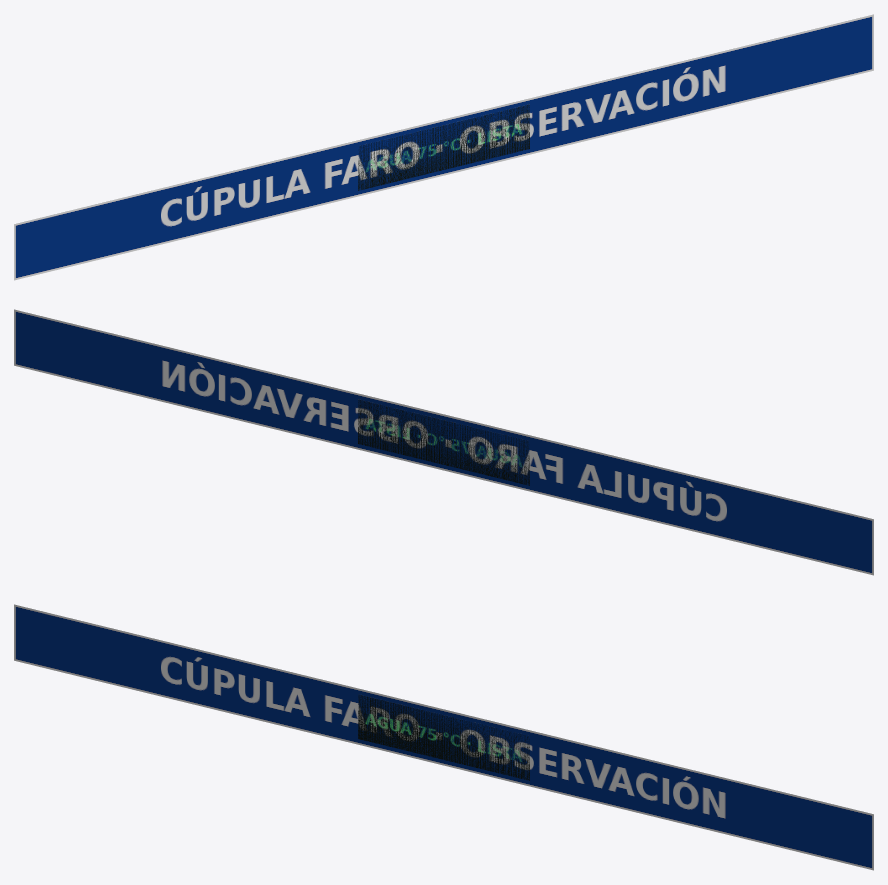
The model's file is SM_Senaletica_Cupula.fbx.
The picture shows the model from 3 angles, top to bottom: view 1: azimuth 30°, elevation 25°; view 2: azimuth 150°, elevation 25°; view 3: azimuth 330°, elevation 25°; orthographic projection.
Parts seen in each view (by area): view 1: SM_CartelF_0, SM_Pantalla_Dispensador; view 2: SM_CartelF_0, SM_Pantalla_Dispensador; view 3: SM_CartelF_0, SM_Pantalla_Dispensador.
Part boxes in pixels (box(x1,y1,x2,y2)): SM_CartelF_0: box(14, 14, 873, 280); SM_Pantalla_Dispensador: box(358, 104, 529, 190); SM_CartelF_0: box(14, 309, 873, 575); SM_Pantalla_Dispensador: box(358, 399, 529, 485); SM_CartelF_0: box(14, 604, 873, 870); SM_Pantalla_Dispensador: box(358, 694, 529, 780).
Bounding box in the file's own units: 0.8 × 0.05 × 0.
